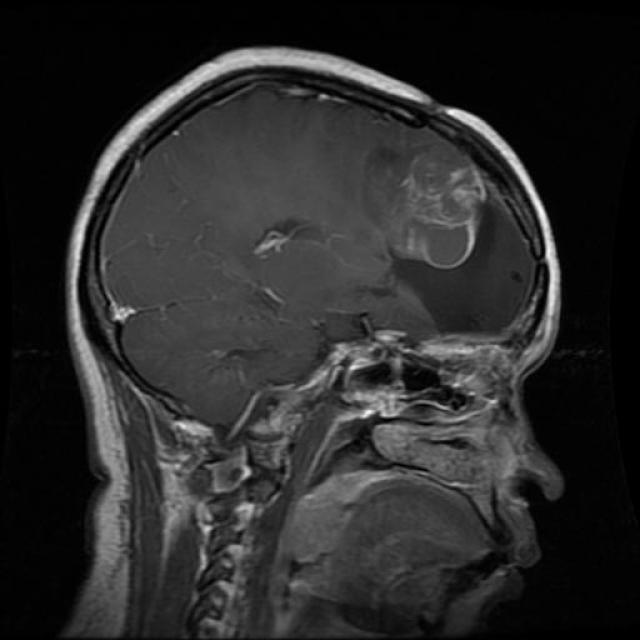glioma: (388, 156, 493, 276)
